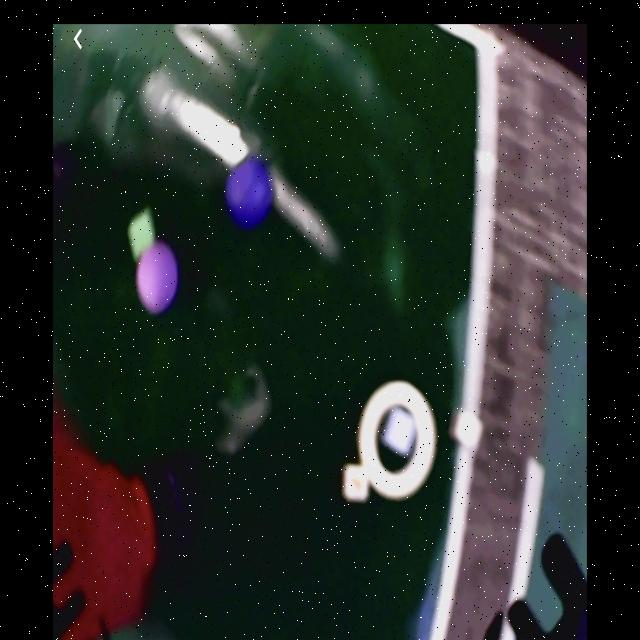ball: (229, 158, 272, 230), (138, 245, 178, 316)
